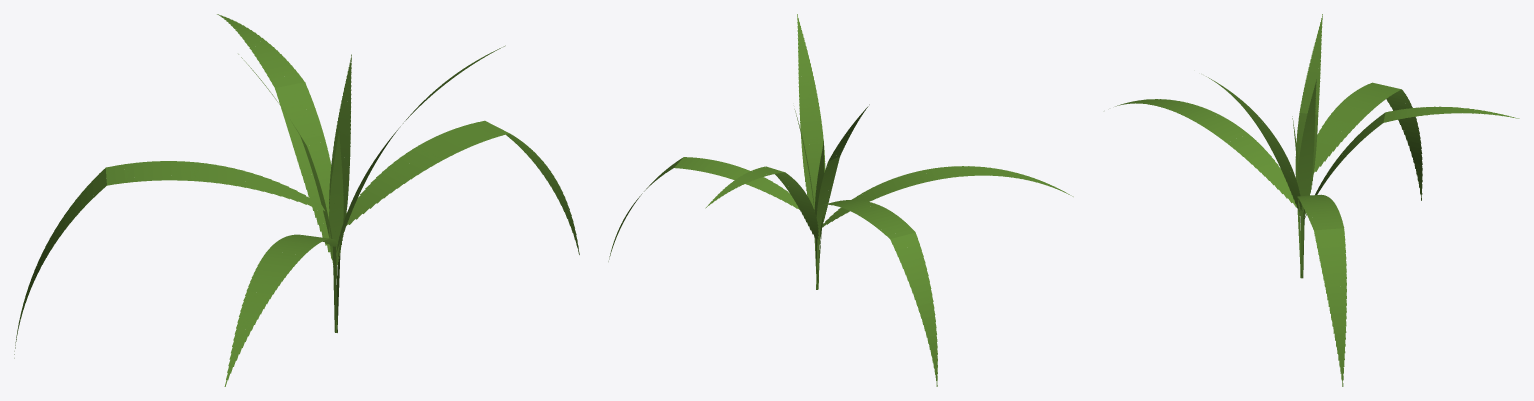
File: maize_005_day_065.dae
3 renders of one model, left to right at view 1: azimuth 30°, elevation 25°; view 2: azimuth 150°, elevation 25°; view 3: azimuth 270°, elevation 25°, orthographic. The views are drawn at different scales.
Visible parts, largest first — view 1: node; view 2: node; view 3: node.
Part boxes in pixels (x1=…): node: x1=14, y1=14, x2=579, y2=386; node: x1=608, y1=14, x2=1073, y2=386; node: x1=1115, y1=14, x2=1519, y2=386.
Bounding box in the file's own units: 0.7156 × 0.4458 × 0.6381.
1 material, 1 textured.
